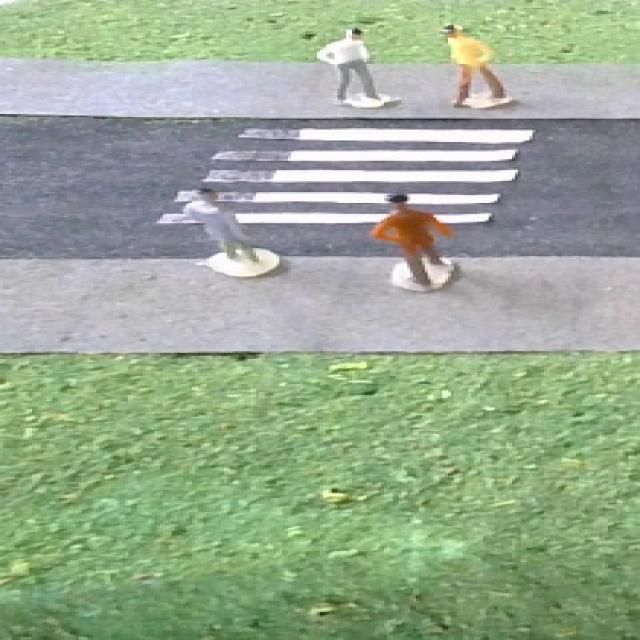person: (355, 186, 464, 296), (173, 184, 292, 284), (303, 21, 409, 112), (432, 21, 524, 110)
